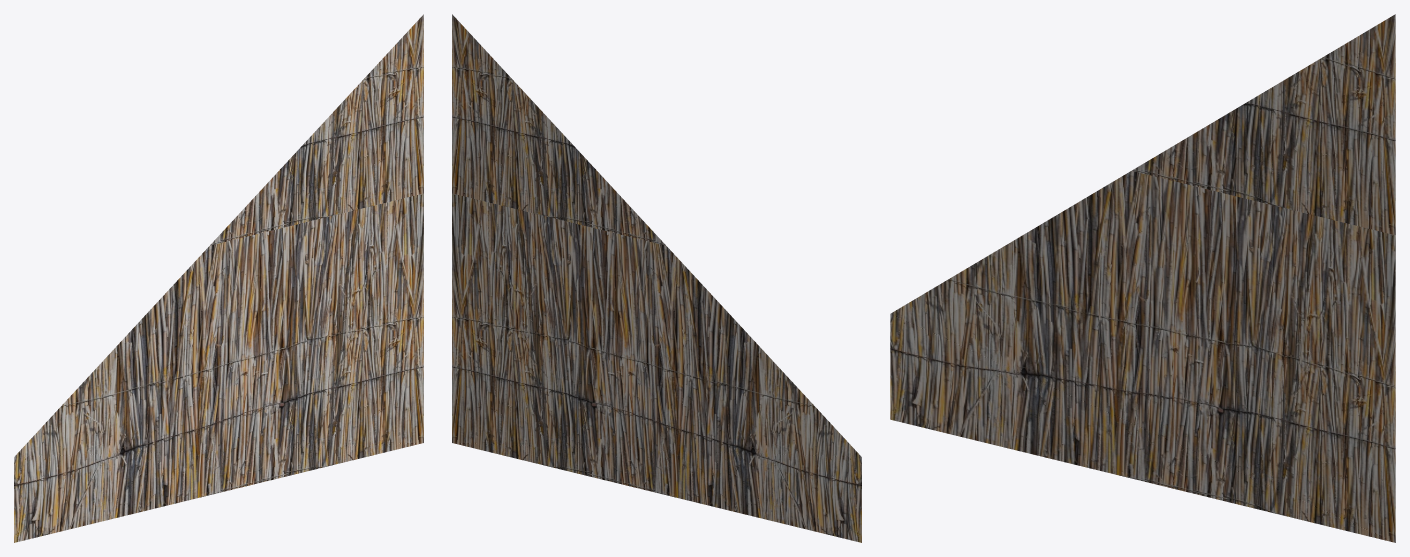
Rendered from HouseBackWall2.fbx.
The picture shows the model from 3 angles, left to right: view 1: azimuth 30°, elevation 25°; view 2: azimuth 150°, elevation 25°; view 3: azimuth 330°, elevation 25°; orthographic projection. The views are drawn at different scales.
Visible parts, largest first — view 1: BackWall2; view 2: BackWall2; view 3: BackWall2.
Boxes of the visible parts, x1,y1,x2,y2 form: BackWall2: (14,14,423,542); BackWall2: (452,14,861,542); BackWall2: (890,14,1395,542).
Size of the model in its own units: 250 by 250 by 5.86e-05.
